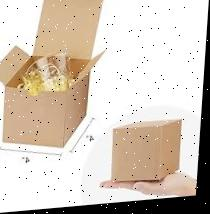cube: (112, 122, 184, 188)
